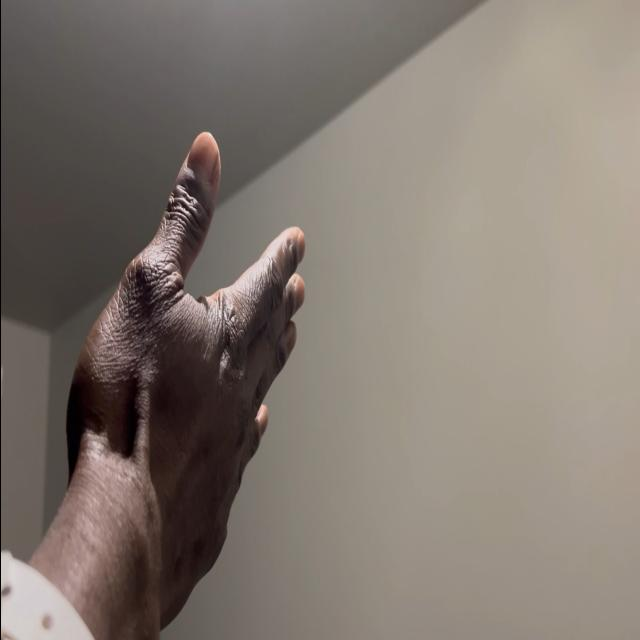Paper: (65, 128, 309, 640)
